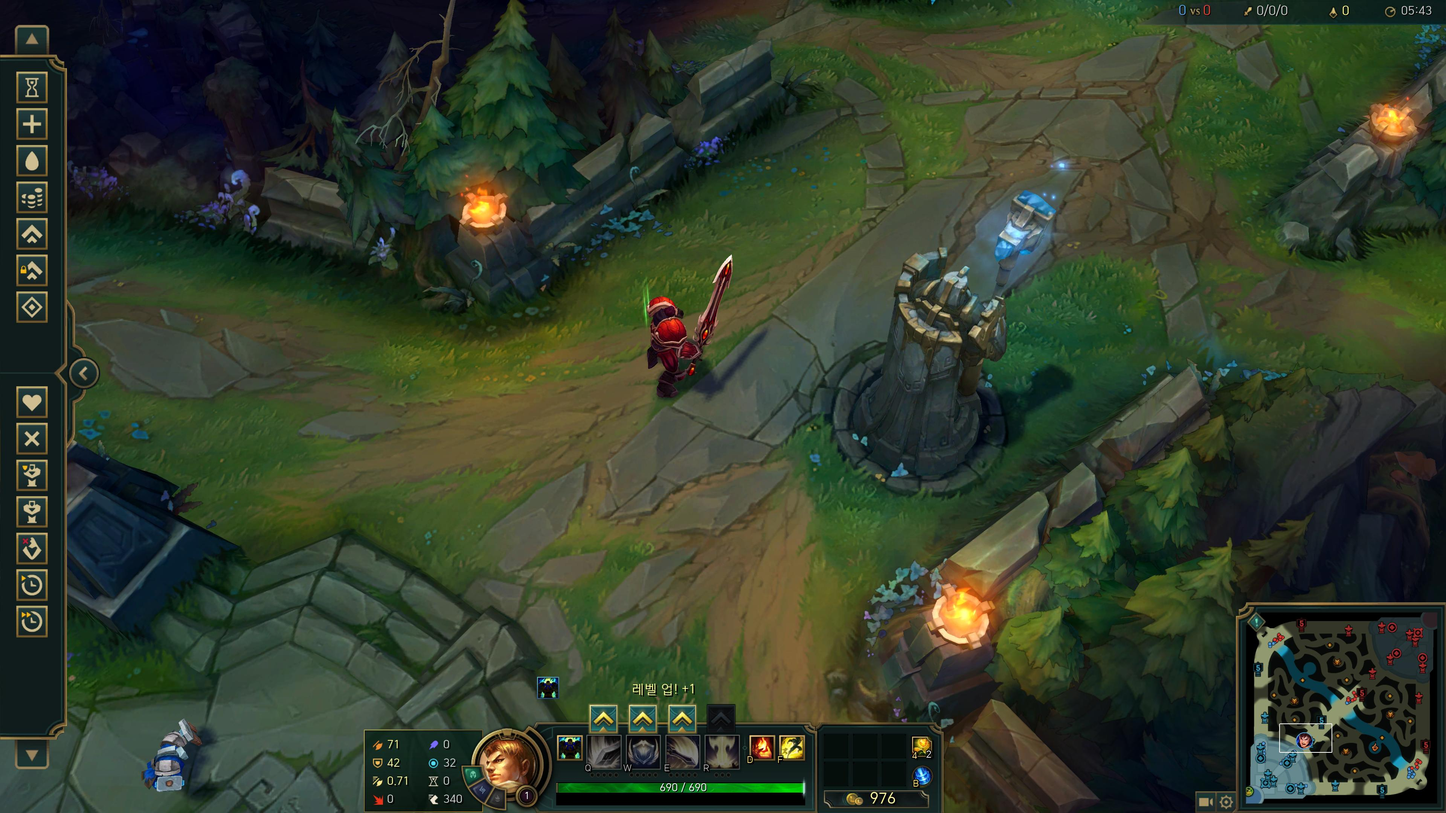ally-melee-minion: (143, 718, 203, 794)
ally-tower: (834, 191, 1058, 490)
